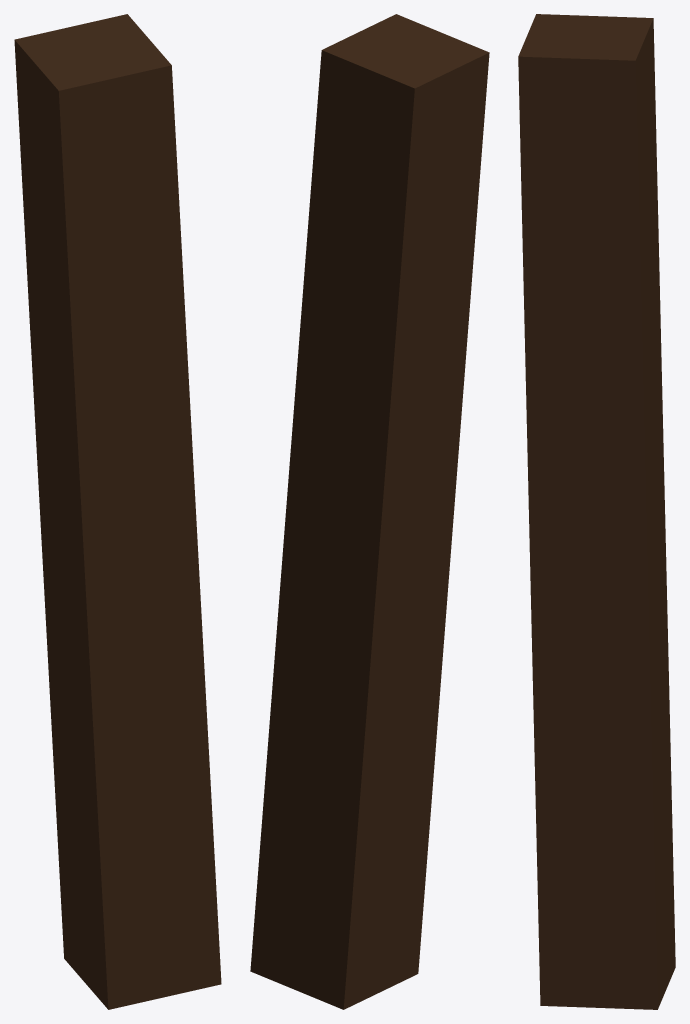
The model's file is ato2_estaca_duna.glb.
3 renders of one model, left to right at view 1: azimuth 30°, elevation 25°; view 2: azimuth 150°, elevation 25°; view 3: azimuth 270°, elevation 25°, orthographic. The views are drawn at different scales.
Parts seen in each view (by area): view 1: Malha_0; view 2: Malha_0; view 3: Malha_0.
Part boxes in pixels (x1,y1,x2,y2): Malha_0: (14,14,221,1009); Malha_0: (250,14,489,1009); Malha_0: (518,14,675,1009).
Bounding box in the file's own units: 0.2401 × 1.21 × 0.1857.
